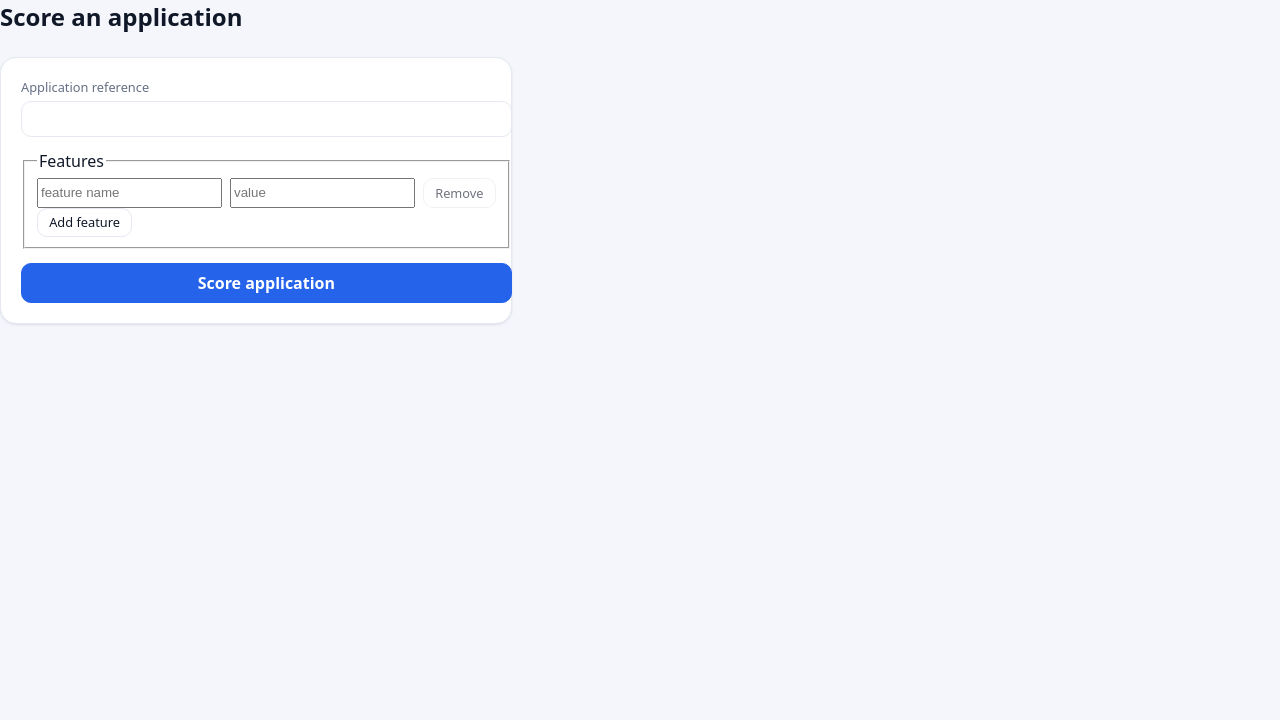
Test: ScorePage › submits the form and renders the returned decision and explanation
In the field labelled "Application reference": (266, 119) x1=21 y1=101 x2=512 y2=137, type "APP-1"
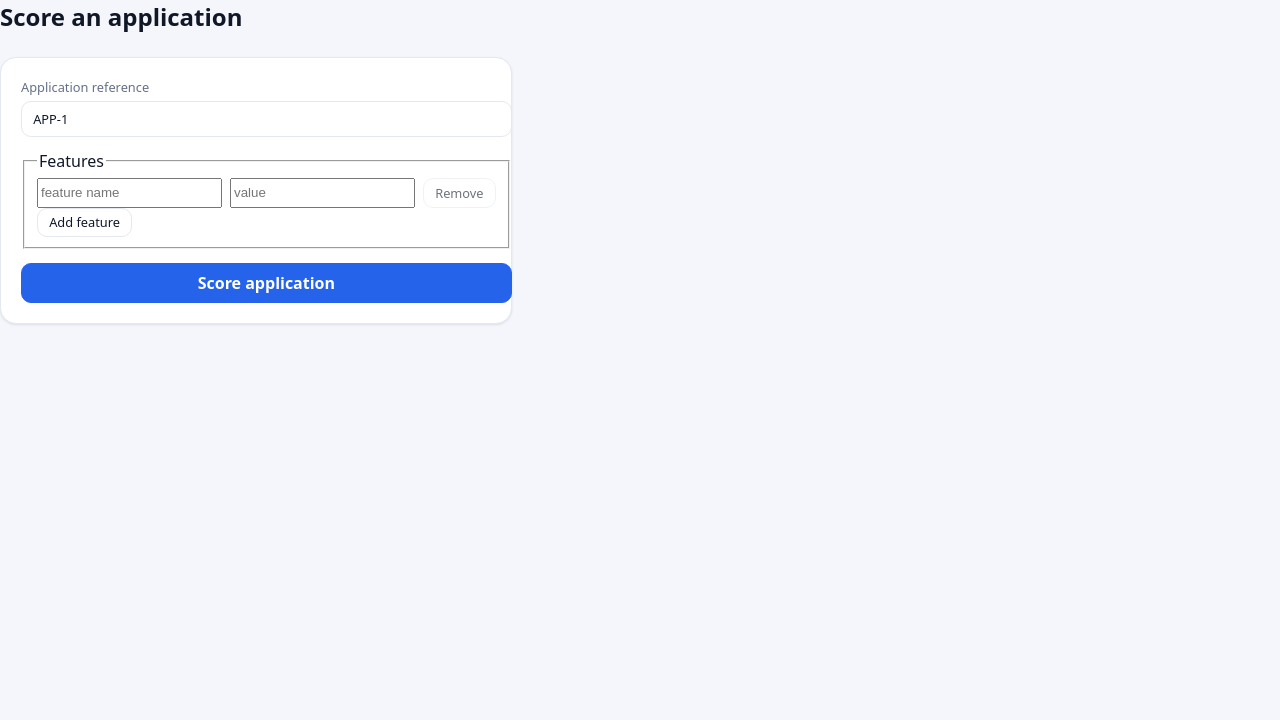
In the field labelled "feature name": (130, 193) x1=37 y1=178 x2=222 y2=208, type "income"
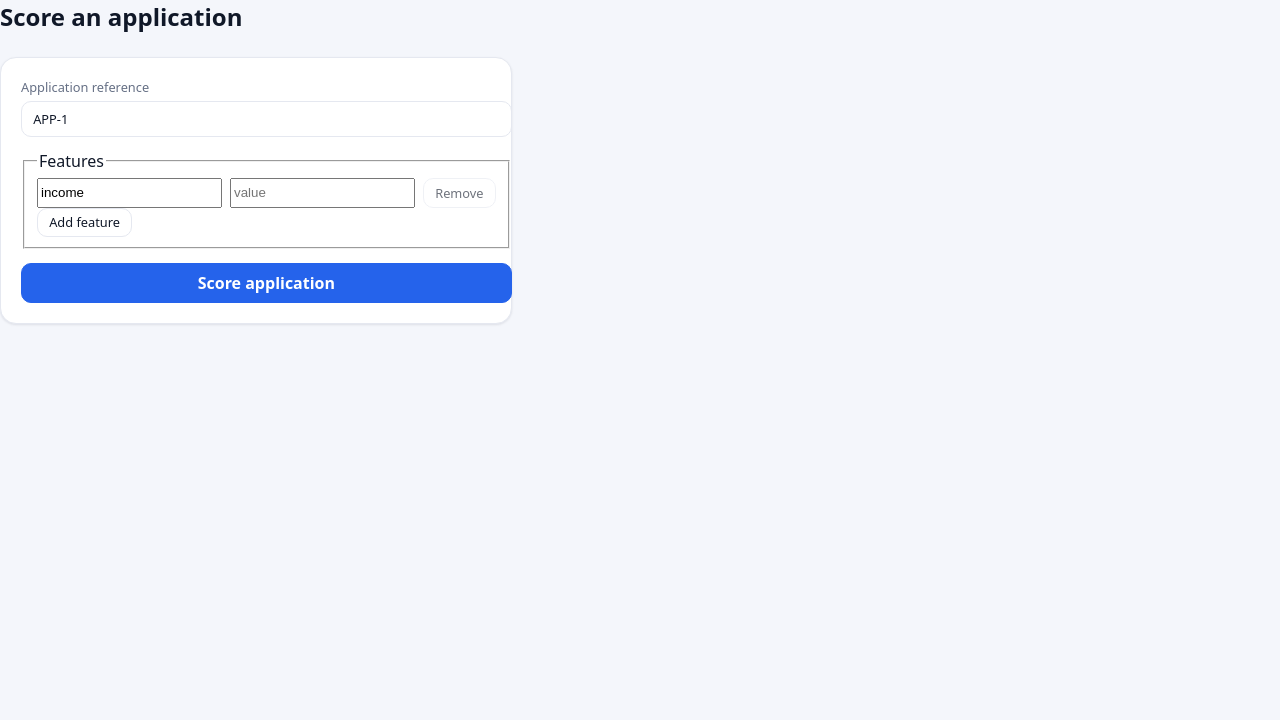
In the field named "feature value": (322, 193) x1=230 y1=178 x2=415 y2=208, type "0.5"
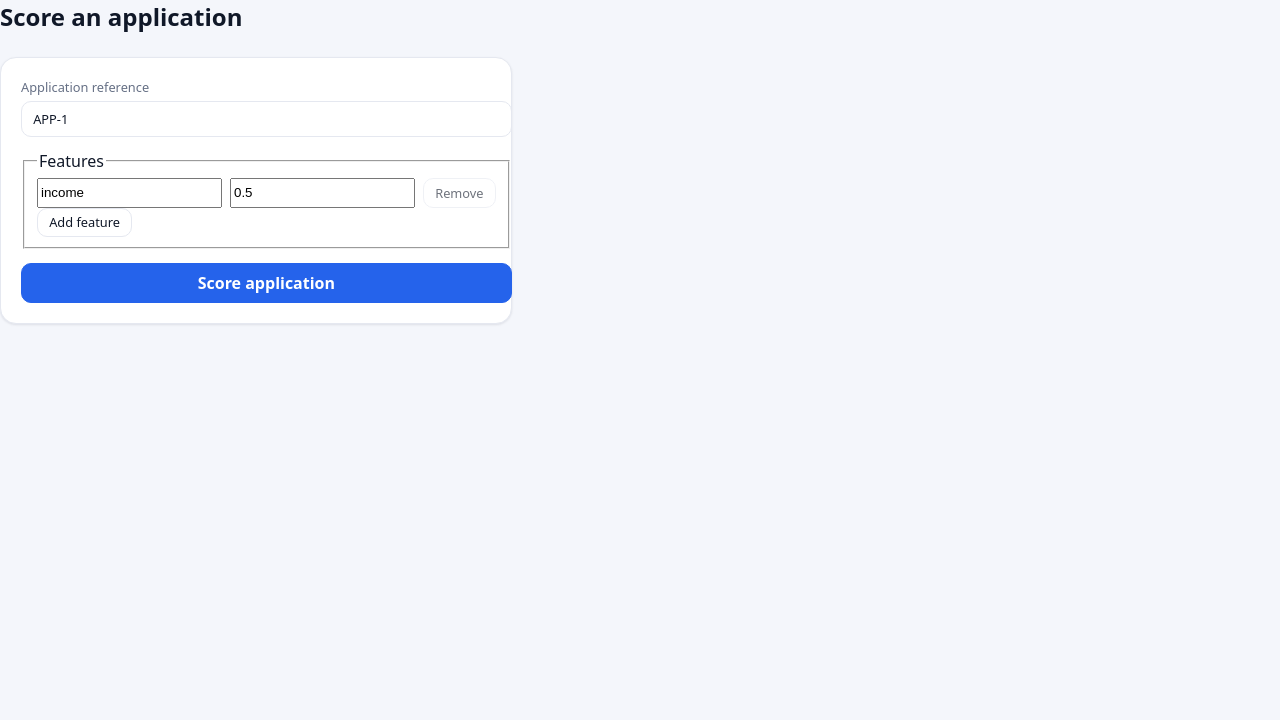
Click the button "Score application": (266, 283) x1=21 y1=263 x2=512 y2=303
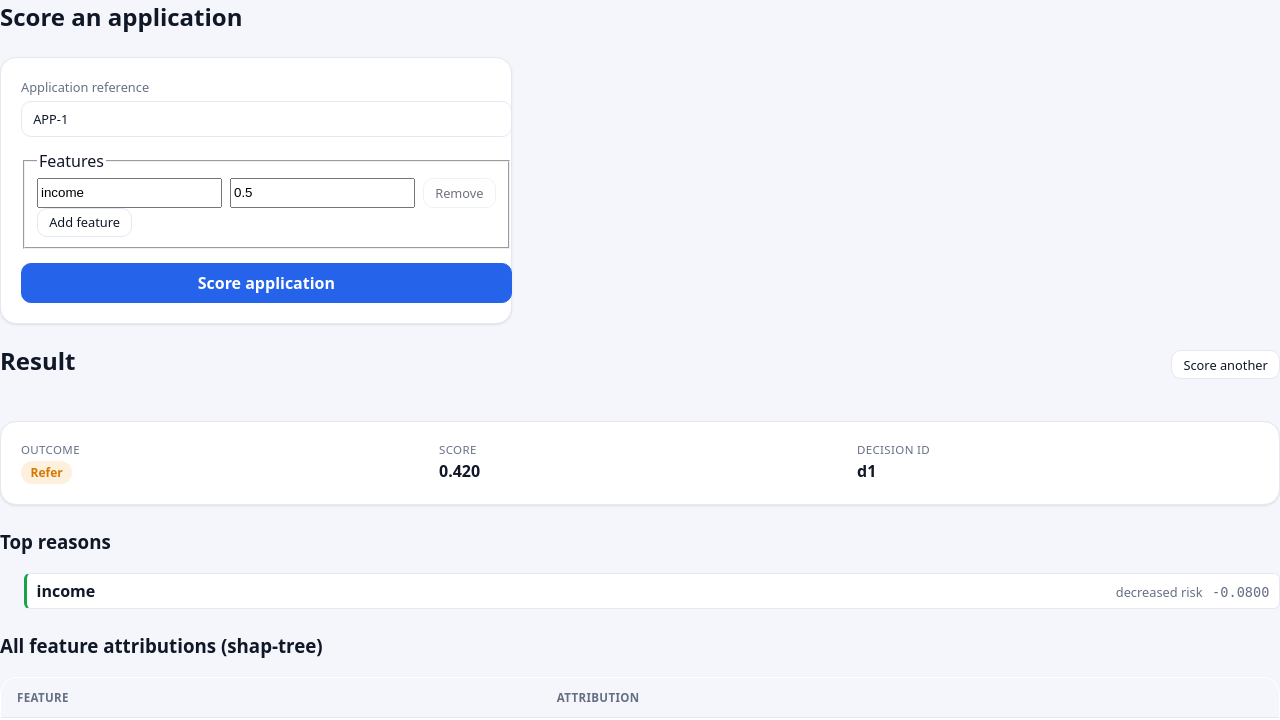
Now the text "refer" is shown, box x1=21 y1=461 x2=72 y2=484
Now the text "0.420" is shown, box x1=439 y1=460 x2=480 y2=482
Now the text "decreased risk" is shown, box x1=1116 y1=583 x2=1203 y2=601
